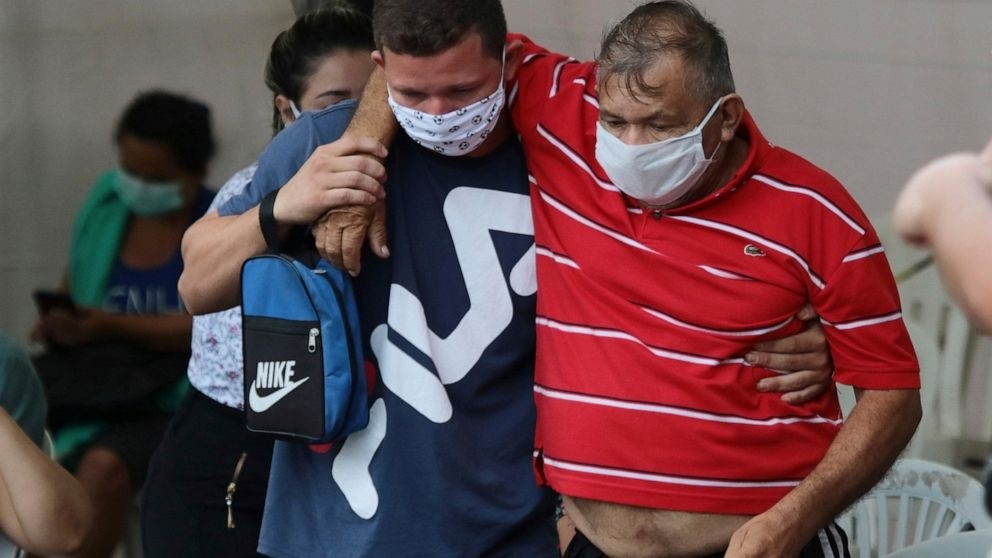face_no_mask: (266, 16, 367, 125)
face_with_mask: (585, 1, 749, 208), (372, 0, 516, 165), (111, 90, 217, 215)
